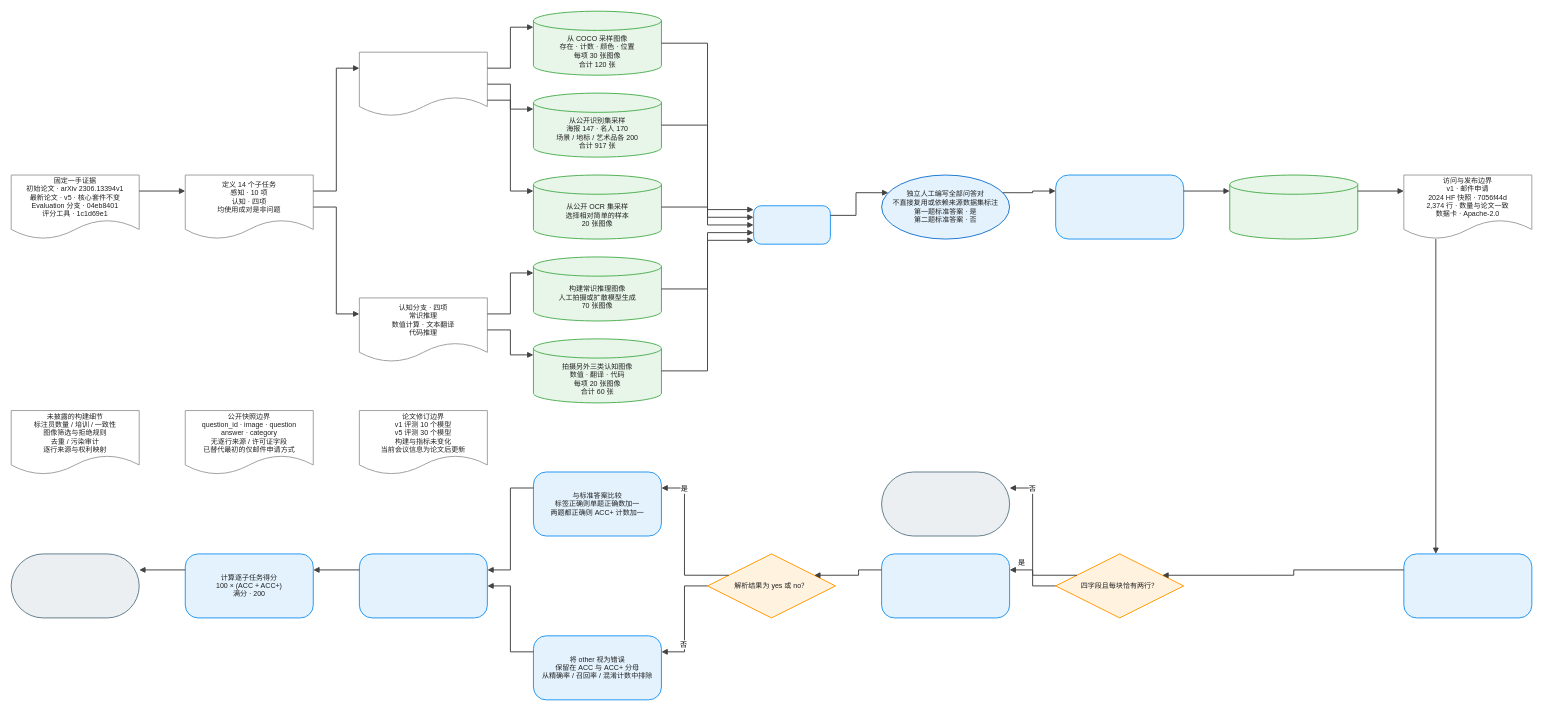
The diagram is 1544 pixels wide and 712 high, and some of its shapes have lost their labels. Each missing label, with the centre of its shape:
"中止整个评分器 字段拆包 / 断言失败 不逐行跳过或补值" goes at (x=945, y=503).
"使用简洁零样本指令 问题 + “请回答是或否” 每张图像恰有两个问题 不提供示例" goes at (x=1119, y=206).
"准备官方评分工具文件 每个子任务一个文件 每张图像连续两行 将响应追加为第四个制表字段 响应必须保持单行" goes at (x=1467, y=585).
"分别报告两类总分 感知 · 10 项求和 · 满分 2,000 认知 · 四项求和 · 满分 800 分母取决于实际提供的行 / 两行块" goes at (x=74, y=585).
"合并五路图像来源 保留子任务归属" goes at (x=792, y=224).
"感知分支 · 10 项 粗粒度识别 · 四项 细粒度识别 · 五项 OCR · 一项" goes at (x=423, y=83).
"汇总 MME 1,187 张图像 2,374 组指令-答案 14 个逐子任务文件" goes at (x=1293, y=206).
"解析小写化后的响应 精确 yes / no 直接接受 否则只检查前四个字符 先查 yes 再查 no · 否则 other" goes at (x=945, y=585).
"计算两个核心指标 ACC · 正确问题 / 全部问题 ACC+ · 两题均对 / 全部图像 随机基线 · 50% 与 25%" goes at (x=423, y=585).
